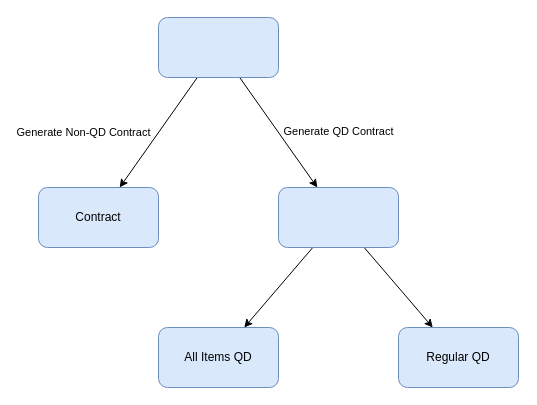
This 537x405 diagram has some shape labels left out. The centre of each missing label's shape, as x and y in pixels:
Proposal: pixel 218 47
QD Contract: pixel 338 217
